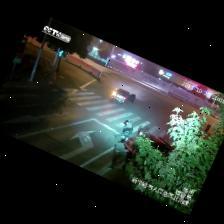person: (109, 139, 127, 169), (114, 121, 133, 140)
